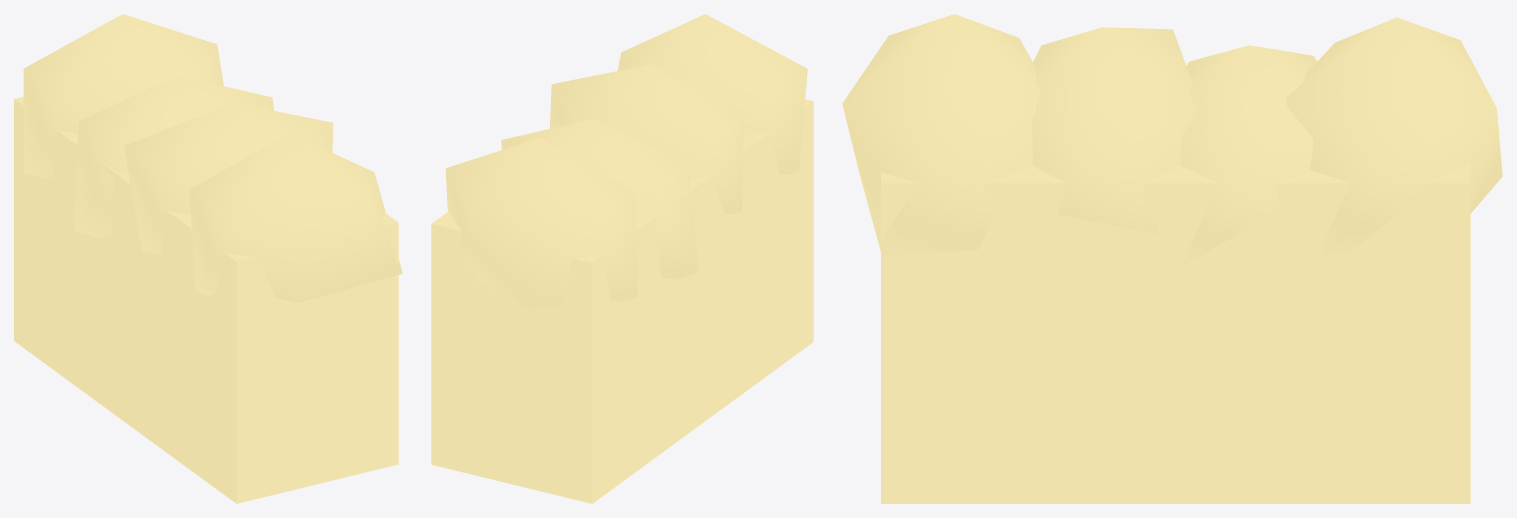
The model's file is Blender_StoryWall_Hedge.glb.
3 views of the same model, side by side, from view 1: azimuth 30°, elevation 25°; view 2: azimuth 150°, elevation 25°; view 3: azimuth 270°, elevation 25° (orthographic). The views are drawn at different scales.
Visible parts, largest first — view 1: Blender_StoryWall_Hedge; view 2: Blender_StoryWall_Hedge; view 3: Blender_StoryWall_Hedge.
Boxes of the visible parts, left/top/right/bottom form: Blender_StoryWall_Hedge: left=14, top=14, right=402, bottom=503; Blender_StoryWall_Hedge: left=431, top=14, right=813, bottom=503; Blender_StoryWall_Hedge: left=842, top=14, right=1502, bottom=503.
Bounding box in the file's own units: 1.06 × 1.64 × 2.24.
